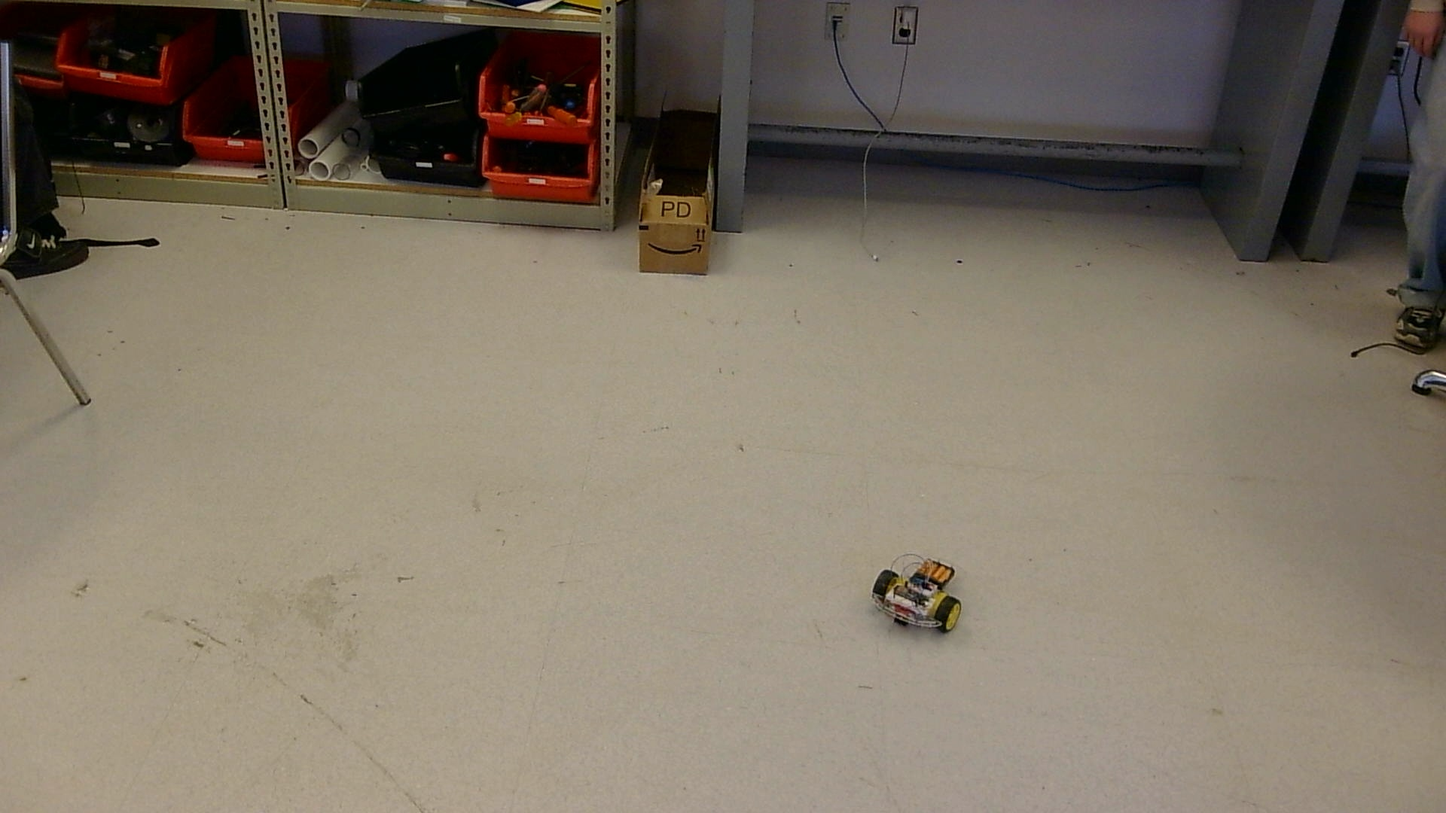robot: (871, 553, 961, 633)
